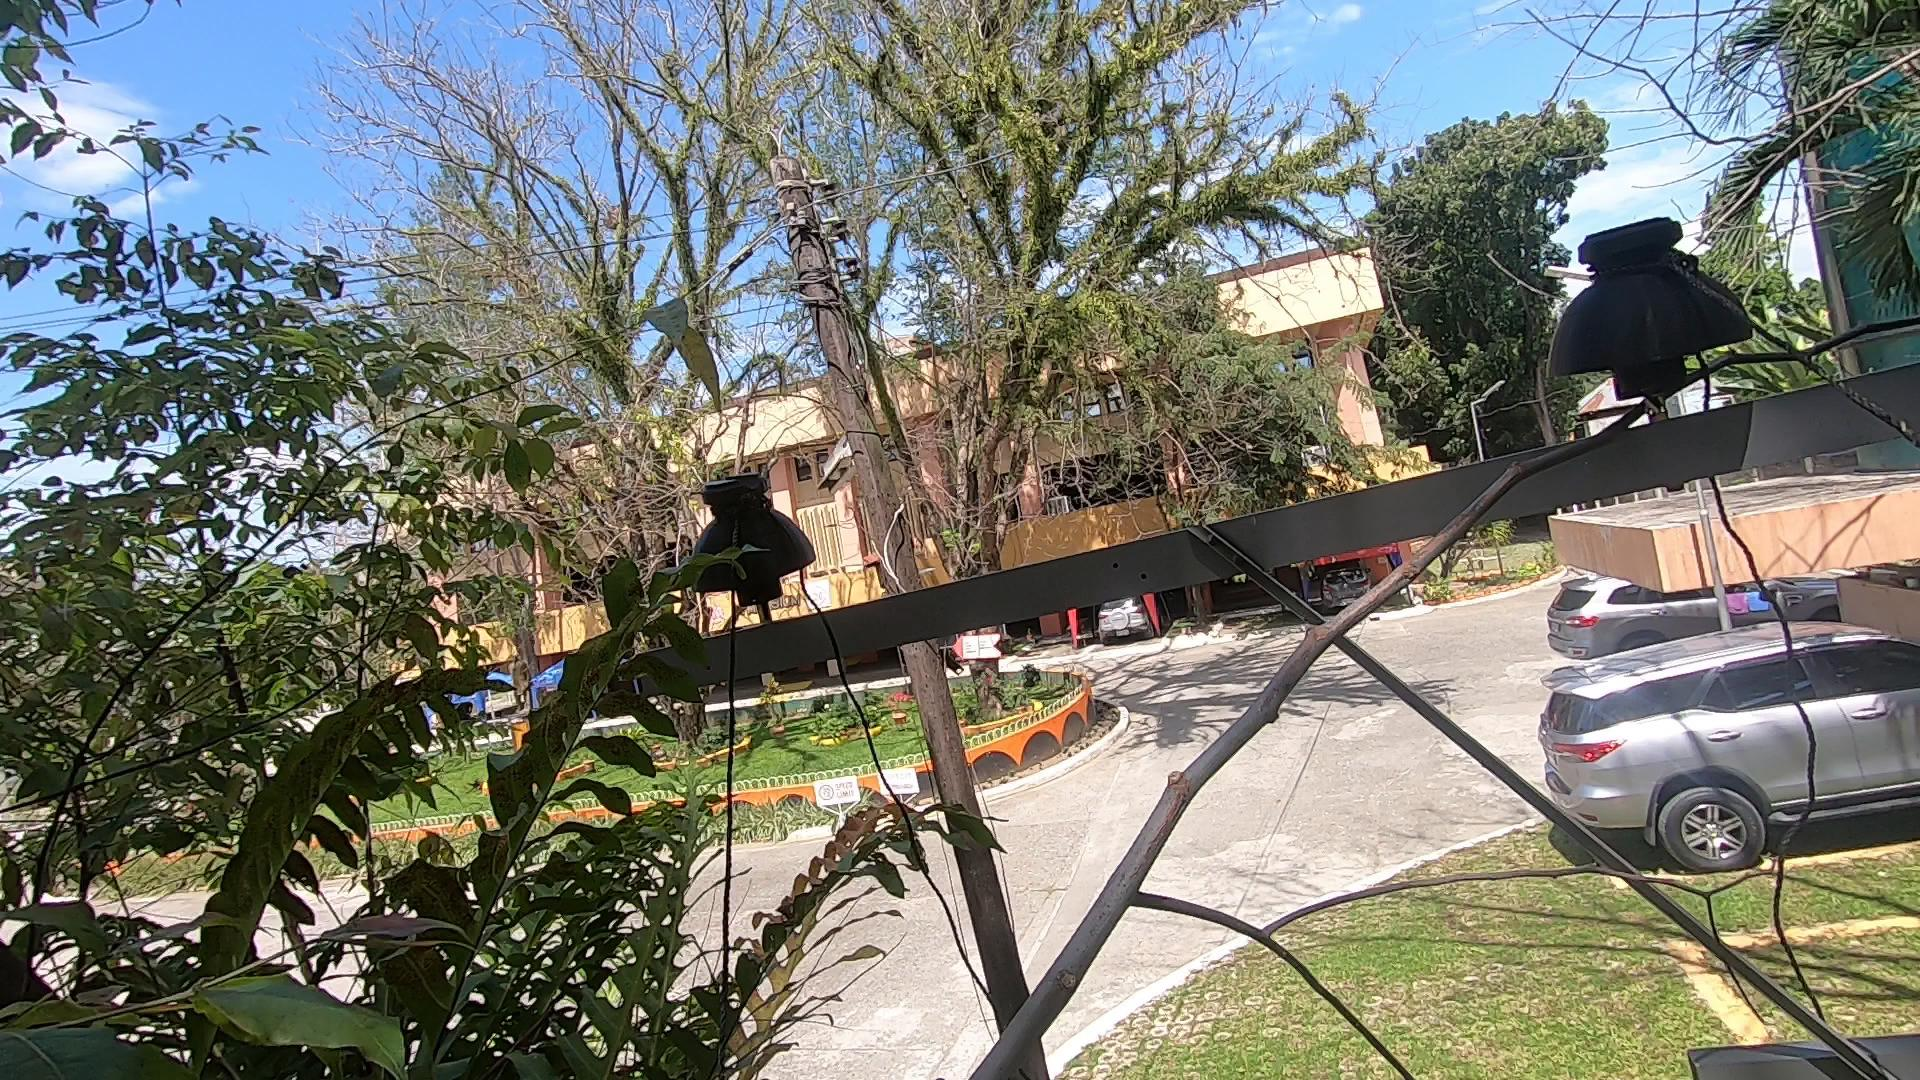tree branch: (844, 305, 1920, 1011)
